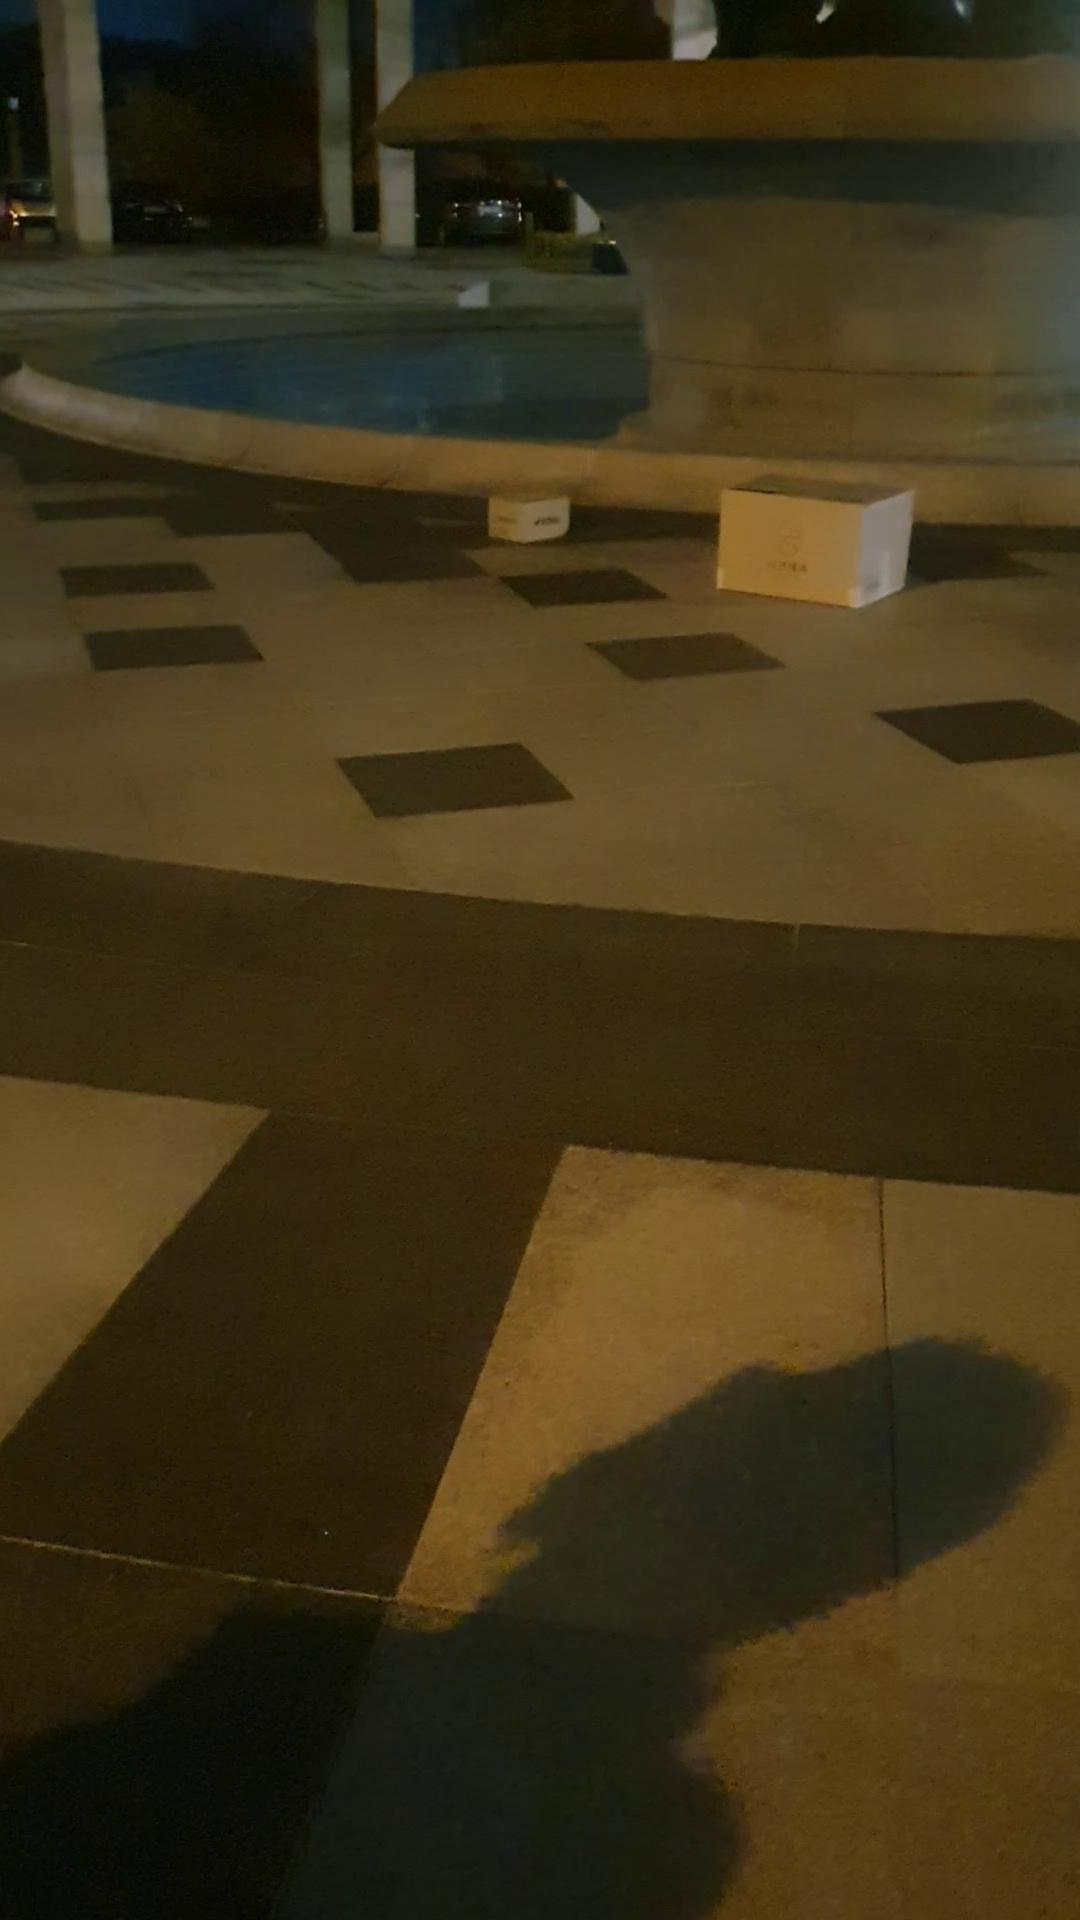Box: (705, 465, 910, 611), (488, 473, 589, 555)
